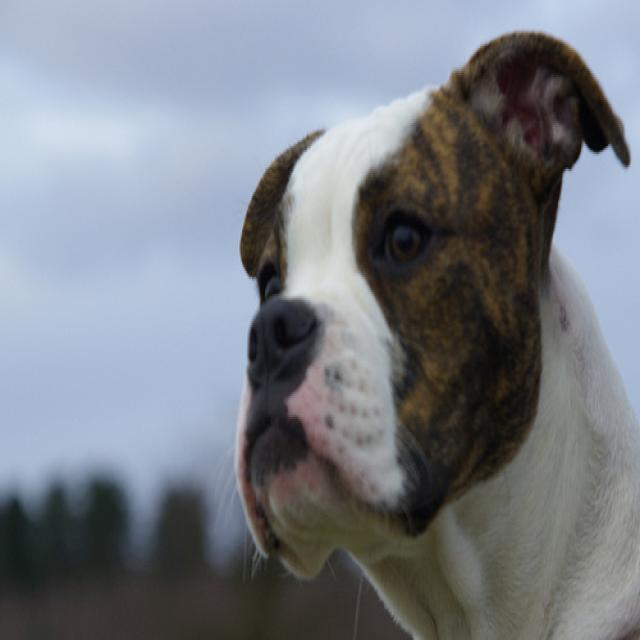dog-american_bulldog: (228, 23, 637, 636)
